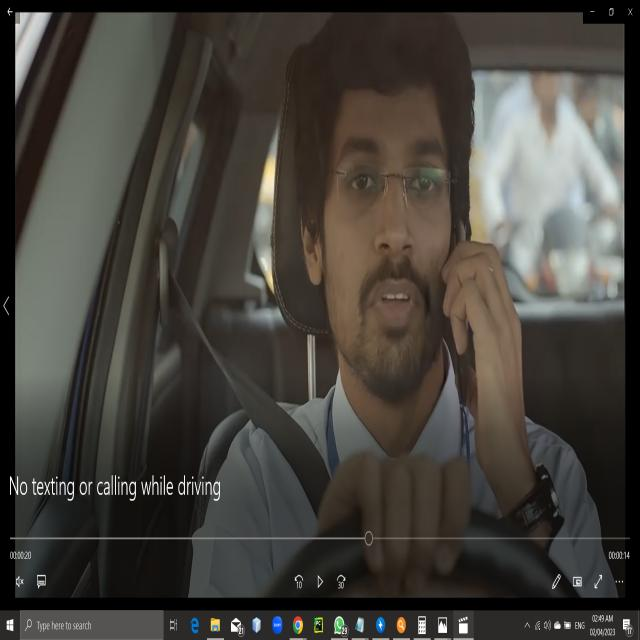using_phone: (428, 195, 511, 407)
